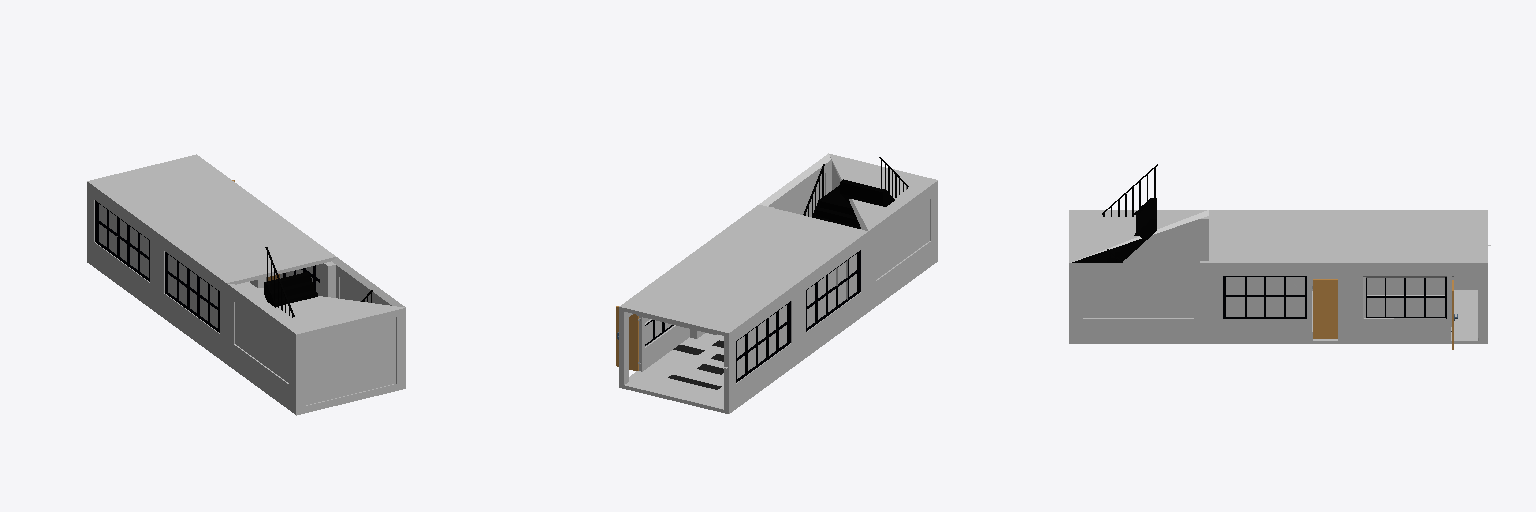
Rendered from TugasFix.obj.
3 renders of one model, left to right at view 1: azimuth 30°, elevation 25°; view 2: azimuth 150°, elevation 25°; view 3: azimuth 270°, elevation 25°, orthographic.
Parts seen in each view (by area): view 1: Cube.001; view 2: Cube.001; view 3: Cube.001.
Part boxes in pixels (x1,y1,x2,y2): Cube.001: (87,154,405,415); Cube.001: (616,153,937,413); Cube.001: (1069,164,1490,349).
Bounding box in the file's own units: 17.27 × 16.9 × 48.56.